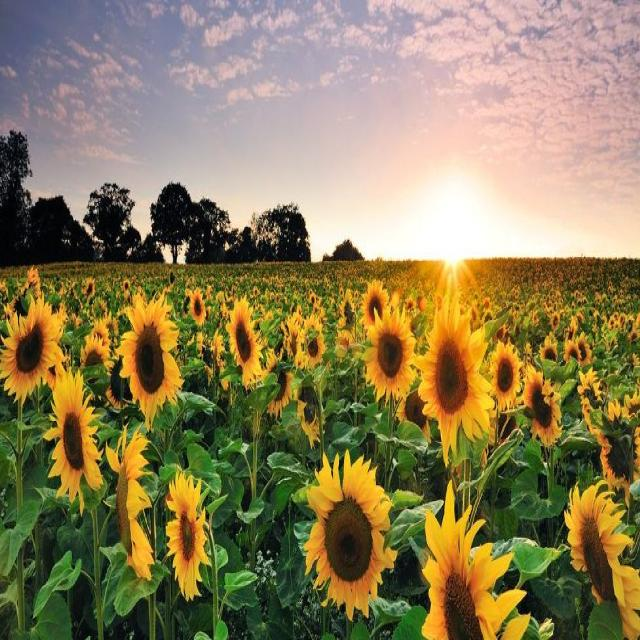sunflower: (306, 450, 396, 631), (413, 504, 524, 636), (558, 464, 640, 635), (416, 298, 502, 453), (118, 294, 190, 428), (40, 364, 105, 512), (2, 291, 64, 413), (112, 427, 159, 585), (164, 462, 217, 598), (362, 308, 427, 403), (588, 393, 640, 478), (228, 290, 272, 389), (516, 368, 568, 450), (486, 342, 525, 410), (300, 314, 329, 365), (184, 287, 206, 331)
